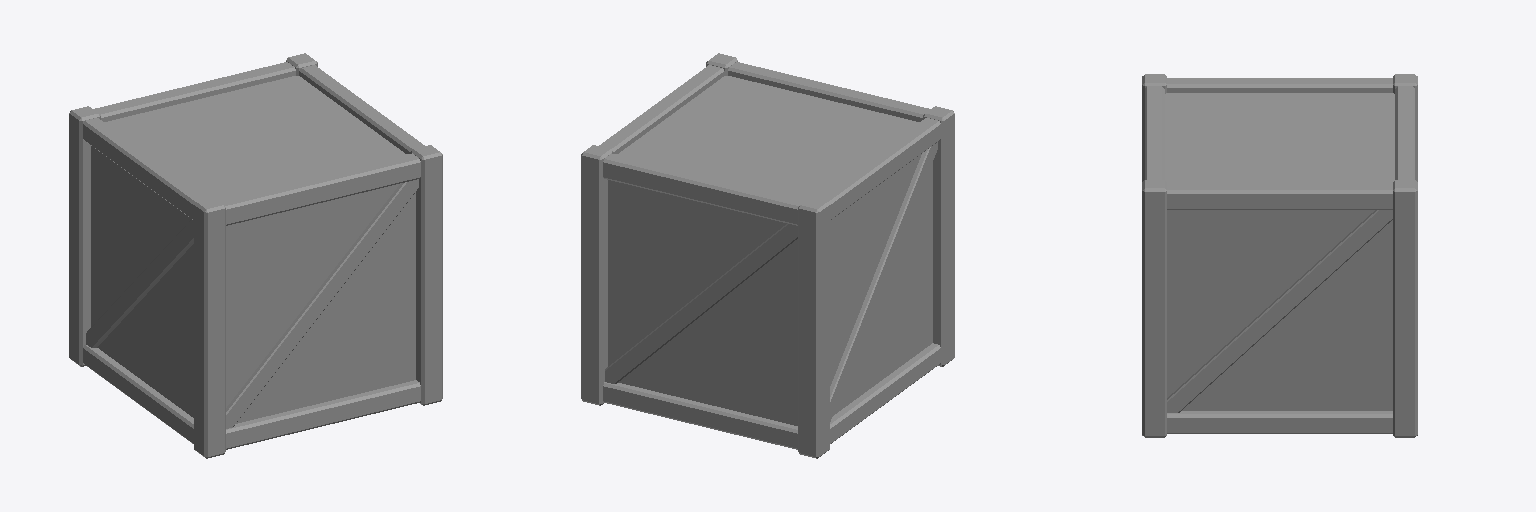
The picture shows the model from 3 angles: view 1: azimuth 30°, elevation 25°; view 2: azimuth 150°, elevation 25°; view 3: azimuth 270°, elevation 25°; orthographic projection.
Visible parts, largest first — view 1: Mesh_WoodenBox_Cube; view 2: Mesh_WoodenBox_Cube; view 3: Mesh_WoodenBox_Cube.
Boxes of the visible parts, x1,y1,x2,y2 form: Mesh_WoodenBox_Cube: [69, 53, 442, 458]; Mesh_WoodenBox_Cube: [581, 53, 954, 458]; Mesh_WoodenBox_Cube: [1142, 74, 1417, 437].
Size of the model in its own units: 1 by 1 by 1.